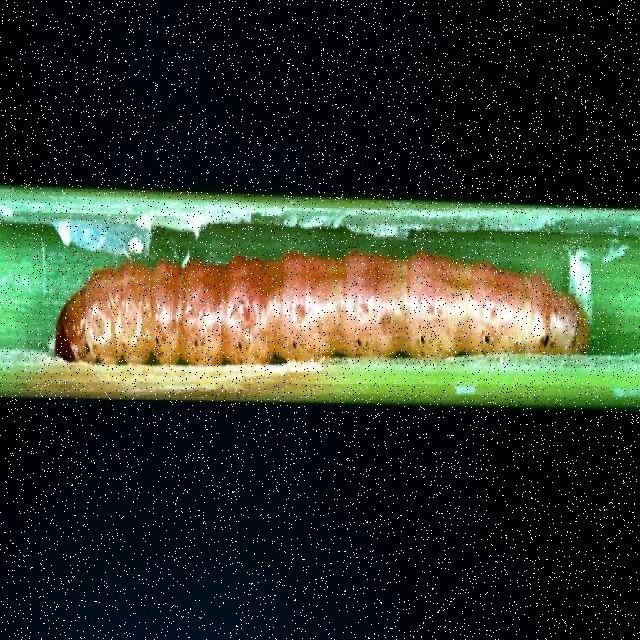army worm: (28, 190, 607, 404)
